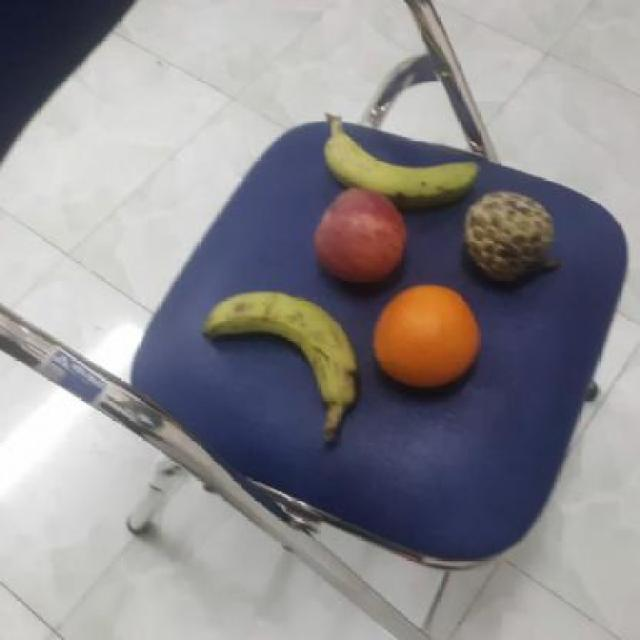apple: (305, 186, 407, 286)
banana: (198, 288, 361, 408), (322, 129, 480, 209)
oren: (371, 281, 482, 394)
sugar apple: (461, 191, 555, 286)
